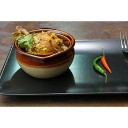briyani: (18, 20, 64, 54)
